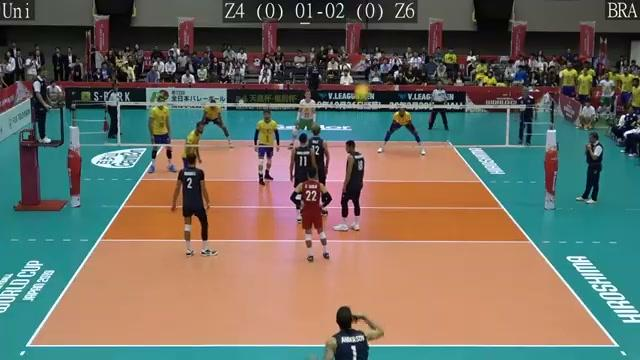ball: (351, 82, 374, 100)
